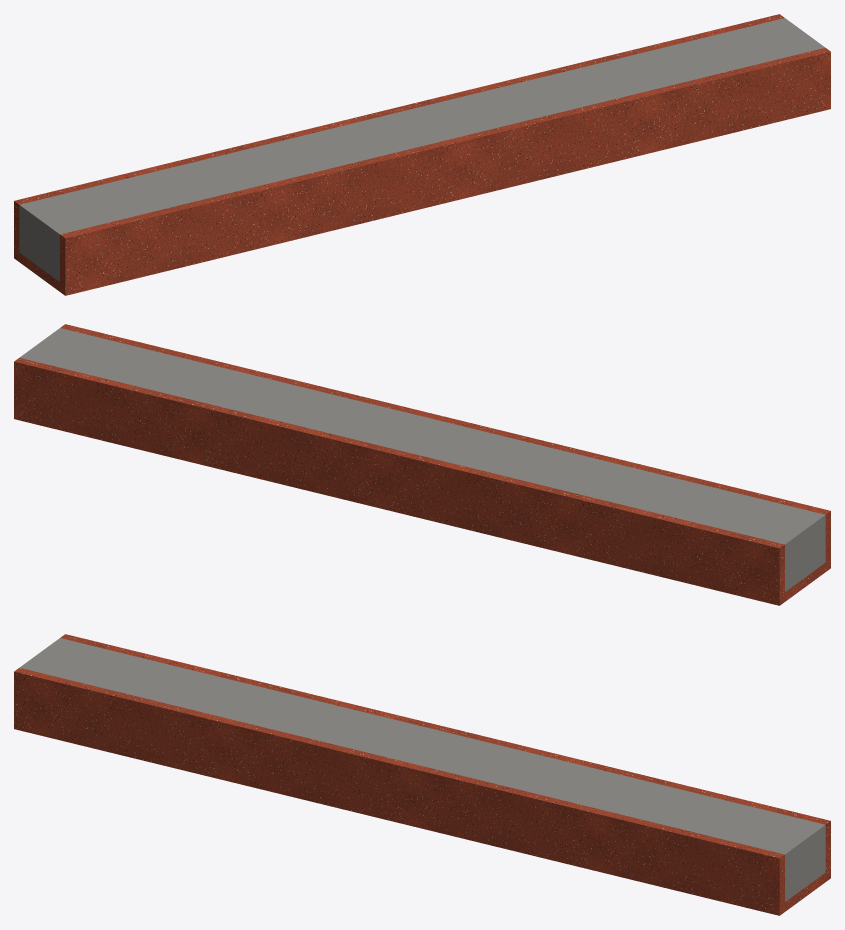
Rendered from lintel.gltf.
3 views of the same model, one above another, from view 1: azimuth 30°, elevation 25°; view 2: azimuth 150°, elevation 25°; view 3: azimuth 330°, elevation 25° (orthographic).
Visible parts, largest first — view 1: lintel; view 2: lintel; view 3: lintel.
Part boxes in pixels (bbox=[...]): lintel: bbox=[14, 14, 830, 295]; lintel: bbox=[14, 324, 830, 605]; lintel: bbox=[14, 634, 830, 915].
Size of the model in its own units: 0.99 by 0.071 by 0.115.
Materials: 2 (1 with a texture image).
